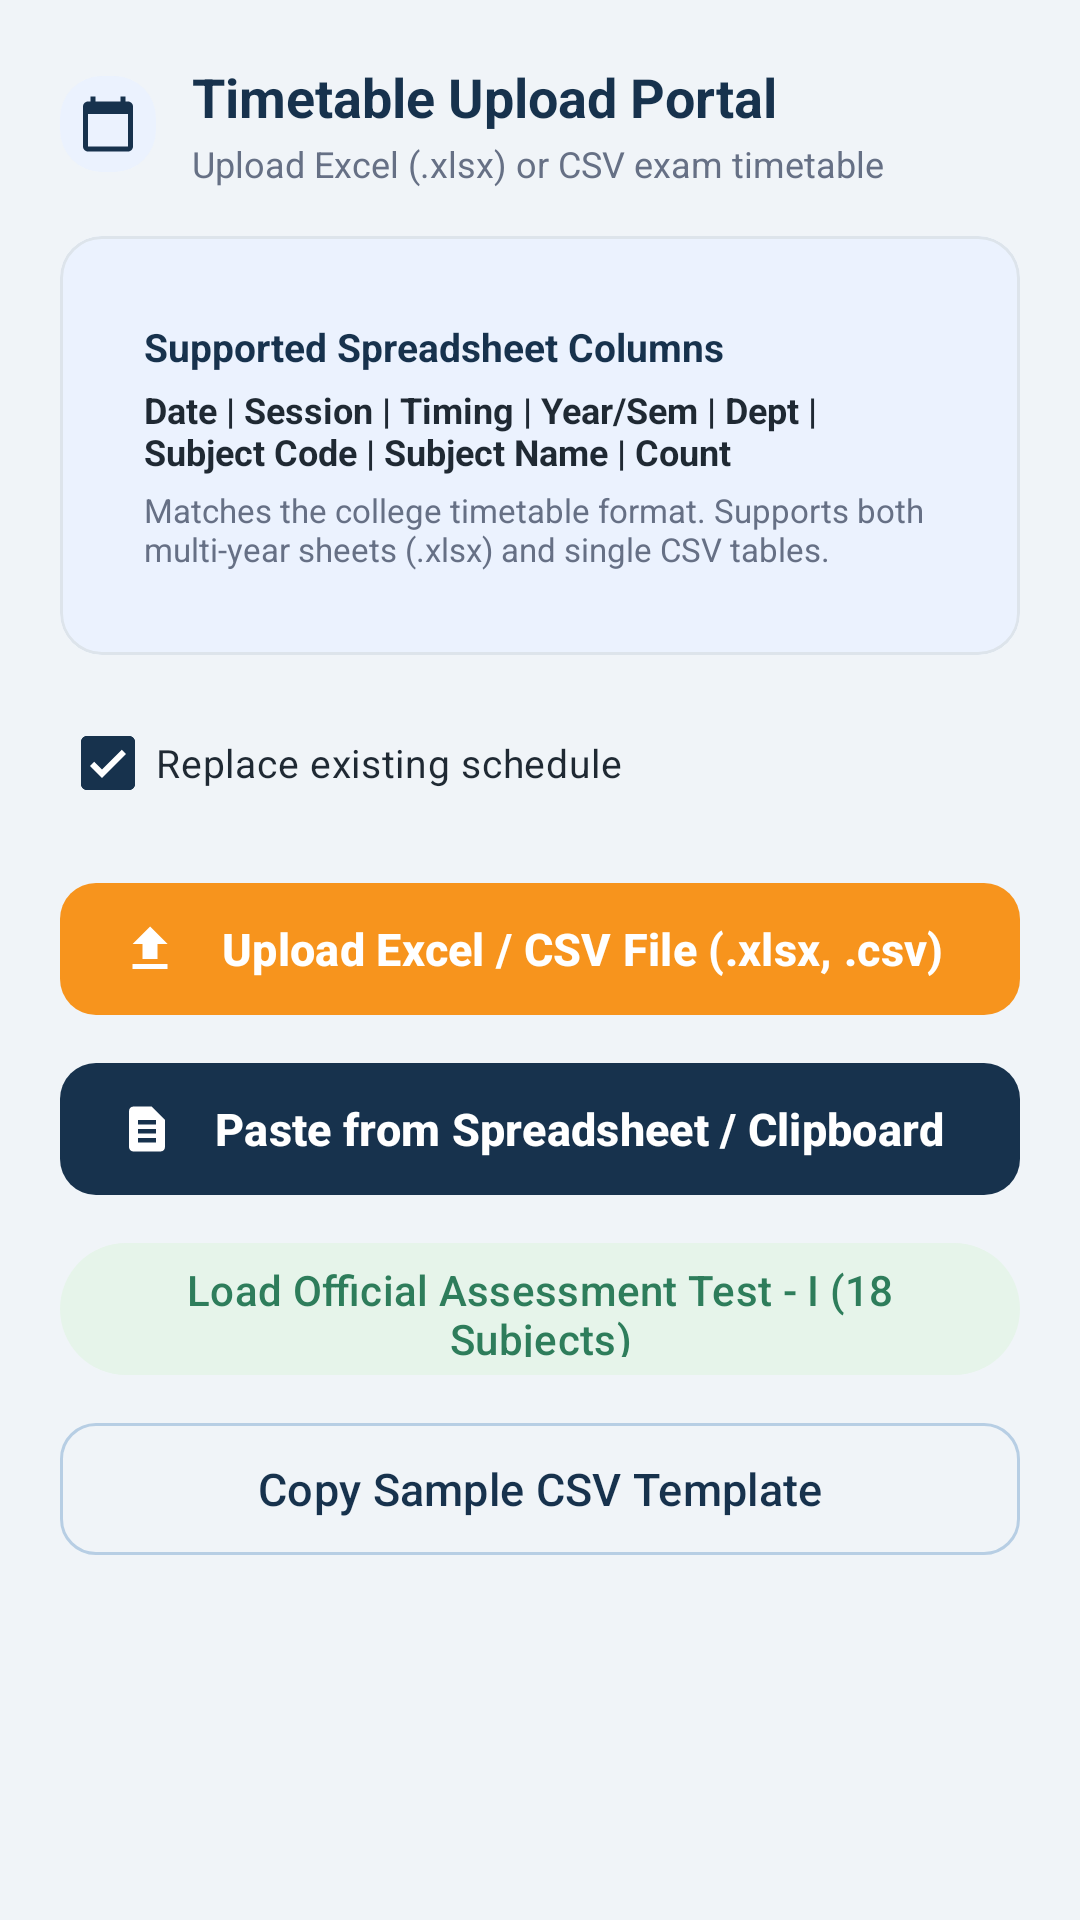

Screen size 1080×1920. Icon name, then its box in pixels as bbox=[x1, y1, x2, y2]:
calendar: bbox=[83, 96, 133, 152]
